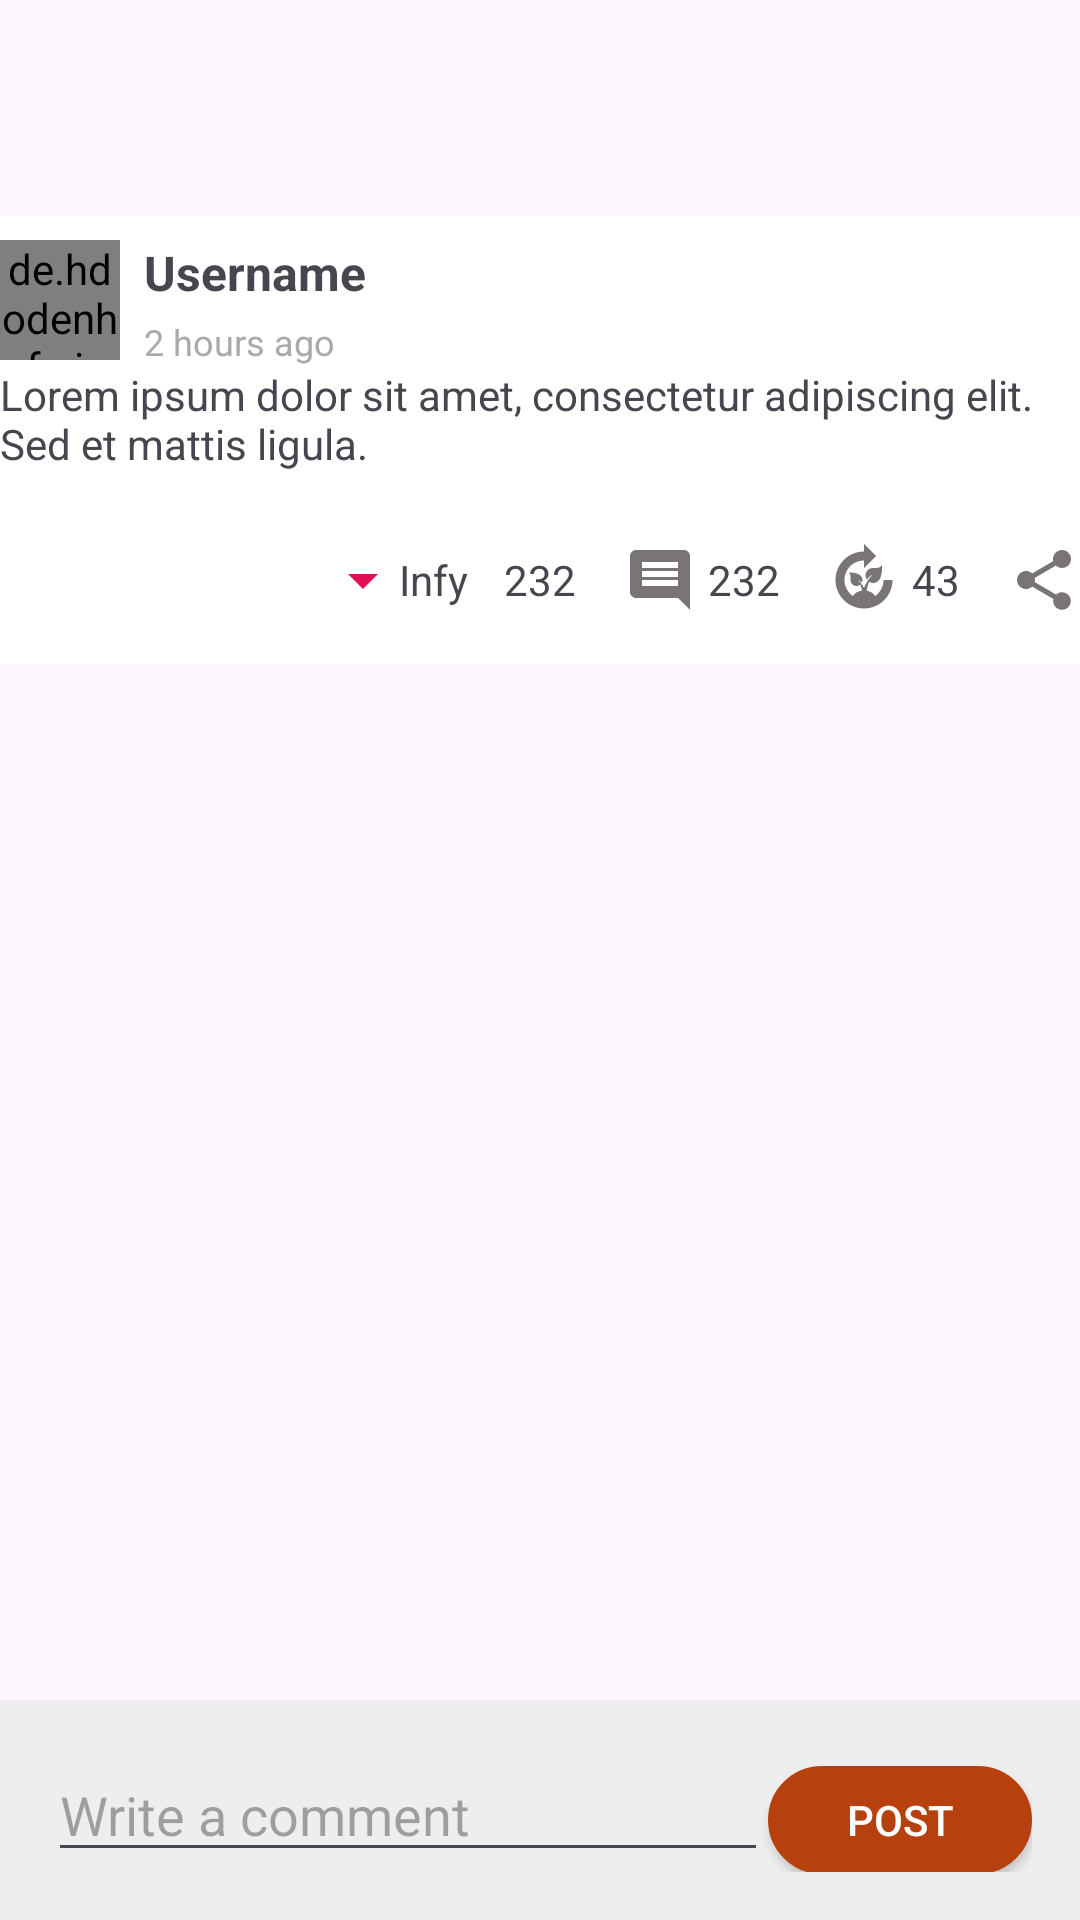

Screen size 1080w x 1920h. Icon name, then its center in pixels as point (x, y):
comment: point (660, 580)
Repost: point (864, 576)
Share: point (1044, 580)
up down: point (363, 581)
